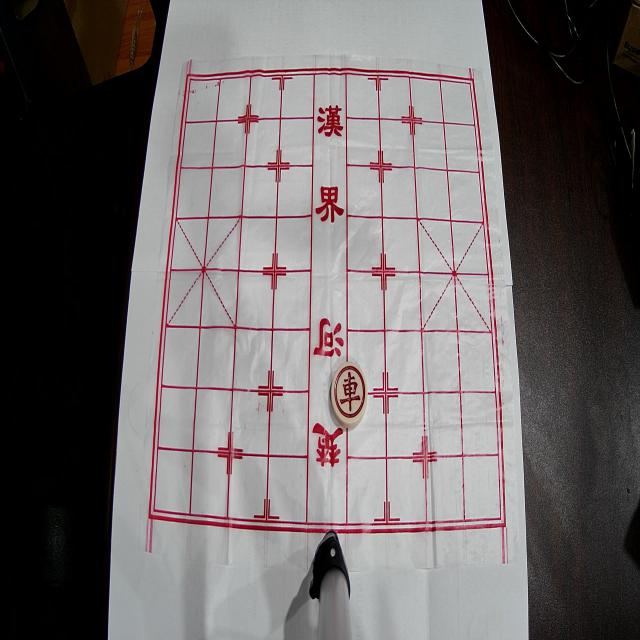red-chariot: (331, 362, 368, 428)
